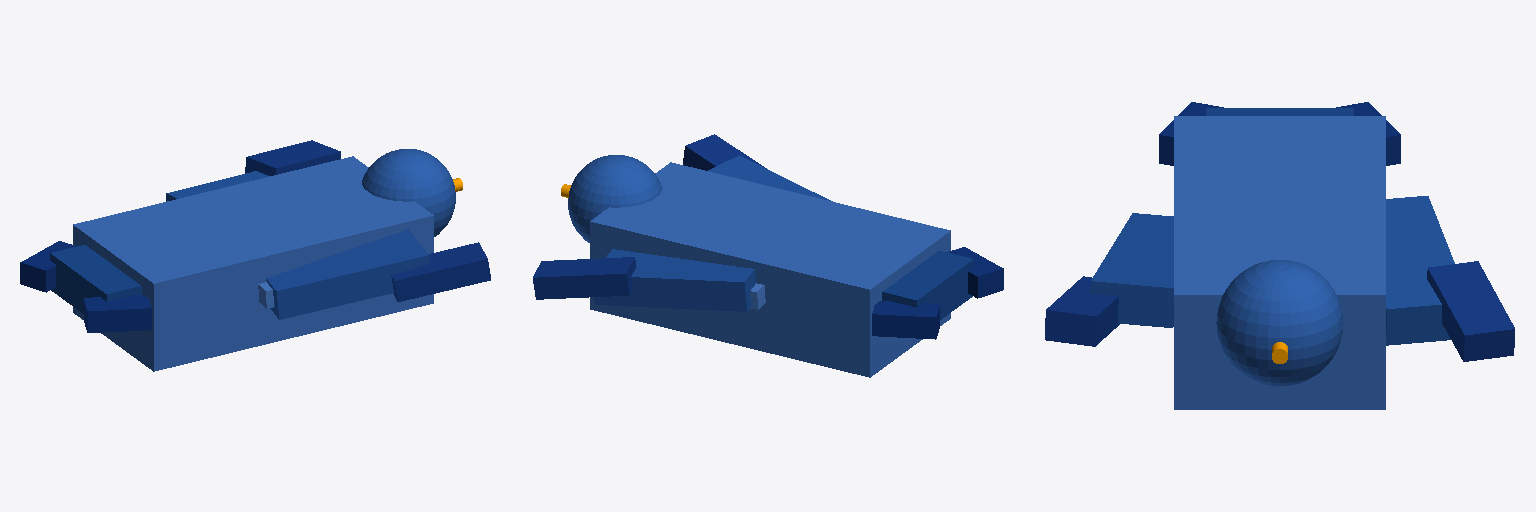
URDF robot description (realistic_bird):
<?xml version="1.0"?>
<robot name="realistic_bird">
  <!-- REALISTIC BIRD - Natural proportions and detailed features -->
  <link name="base_link">
    
    <!-- Main bird body - Realistic bird proportions -->
    <visual name="body">
      <origin xyz="0 0 0" rpy="0 0 0"/>
      <geometry>
        <box size="0.20 0.10 0.06"/>
      </geometry>
      <material name="body_color">
        <color rgba="0.25 0.45 0.75 1.0"/>
      </material>
    </visual>
    
    <!-- Bird head - Proportional to real bird -->
    <visual name="head">
      <origin xyz="0.11 0 0.02" rpy="0 0 0"/>
      <geometry>
        <sphere radius="0.03"/>
      </geometry>
      <material name="head_color">
        <color rgba="0.20 0.40 0.70 1.0"/>
      </material>
    </visual>
    
    <!-- Left wing - Realistic wing shape -->
    <visual name="left_wing">
      <origin xyz="0.03 0.06 0.01" rpy="0 0.1 0.2"/>
      <geometry>
        <box size="0.10 0.04 0.02"/>
      </geometry>
      <material name="wing_color">
        <color rgba="0.15 0.35 0.65 1.0"/>
      </material>
    </visual>
    
    <!-- Right wing - Realistic wing shape -->
    <visual name="right_wing">
      <origin xyz="0.03 -0.06 0.01" rpy="0 -0.1 -0.2"/>
      <geometry>
        <box size="0.10 0.04 0.02"/>
      </geometry>
      <material name="wing_color">
        <color rgba="0.15 0.35 0.65 1.0"/>
      </material>
    </visual>
    
    <!-- Wing tips - Primary feathers -->
    <visual name="left_wing_primary">
      <origin xyz="0.08 0.09 0.012" rpy="0 0.15 0.3"/>
      <geometry>
        <box size="0.06 0.025 0.015"/>
      </geometry>
      <material name="primary_color">
        <color rgba="0.10 0.25 0.55 1.0"/>
      </material>
    </visual>
    
    <visual name="right_wing_primary">
      <origin xyz="0.08 -0.09 0.012" rpy="0 -0.15 -0.3"/>
      <geometry>
        <box size="0.06 0.025 0.015"/>
      </geometry>
      <material name="primary_color">
        <color rgba="0.10 0.25 0.55 1.0"/>
      </material>
    </visual>
    
    <!-- Secondary wing feathers -->
    <visual name="left_secondary">
      <origin xyz="0.01 0.05 0.008" rpy="0 0.05 0.1"/>
      <geometry>
        <box size="0.07 0.03 0.012"/>
      </geometry>
      <material name="secondary_color">
        <color rgba="0.30 0.50 0.80 1.0"/>
      </material>
    </visual>
    
    <visual name="right_secondary">
      <origin xyz="0.01 -0.05 0.008" rpy="0 -0.05 -0.1"/>
      <geometry>
        <box size="0.07 0.03 0.012"/>
      </geometry>
      <material name="secondary_color">
        <color rgba="0.30 0.50 0.80 1.0"/>
      </material>
    </visual>
    
    <!-- Tail - Natural fan shape -->
    <visual name="tail_main">
      <origin xyz="-0.10 0 0.01" rpy="0 0 0"/>
      <geometry>
        <box size="0.05 0.07 0.025"/>
      </geometry>
      <material name="tail_color">
        <color rgba="0.12 0.30 0.58 1.0"/>
      </material>
    </visual>
    
    <!-- Tail outer feathers -->
    <visual name="tail_left">
      <origin xyz="-0.12 0.04 0.01" rpy="0 0 0.4"/>
      <geometry>
        <box size="0.04 0.02 0.015"/>
      </geometry>
      <material name="tail_outer_color">
        <color rgba="0.08 0.22 0.50 1.0"/>
      </material>
    </visual>
    
    <visual name="tail_right">
      <origin xyz="-0.12 -0.04 0.01" rpy="0 0 -0.4"/>
      <geometry>
        <box size="0.04 0.02 0.015"/>
      </geometry>
      <material name="tail_outer_color">
        <color rgba="0.08 0.22 0.50 1.0"/>
      </material>
    </visual>
    
    <!-- Beak - Sharp and proportional -->
    <visual name="beak">
      <origin xyz="0.14 0 0.02" rpy="0 1.57 0"/>
      <geometry>
        <cylinder radius="0.004" length="0.015"/>
      </geometry>
      <material name="beak_color">
        <color rgba="1.0 0.65 0.0 1.0"/>
      </material>
    </visual>
    
    <!-- Eyes - Natural bird eyes -->
    <visual name="left_eye">
      <origin xyz="0.12 0.015 0.032" rpy="0 0 0"/>
      <geometry>
        <sphere radius="0.008"/>
      </geometry>
      <material name="eye_color">
        <color rgba="0.05 0.05 0.05 1.0"/>
      </material>
    </visual>
    
    <visual name="right_eye">
      <origin xyz="0.12 -0.015 0.032" rpy="0 0 0"/>
      <geometry>
        <sphere radius="0.008"/>
      </geometry>
      <material name="eye_color">
        <color rgba="0.05 0.05 0.05 1.0"/>
      </material>
    </visual>
    
    <!-- Eye highlights for life -->
    <visual name="left_eye_shine">
      <origin xyz="0.123 0.013 0.036" rpy="0 0 0"/>
      <geometry>
        <sphere radius="0.003"/>
      </geometry>
      <material name="eye_shine_color">
        <color rgba="0.95 0.95 0.95 1.0"/>
      </material>
    </visual>
    
    <visual name="right_eye_shine">
      <origin xyz="0.123 -0.013 0.036" rpy="0 0 0"/>
      <geometry>
        <sphere radius="0.003"/>
      </geometry>
      <material name="eye_shine_color">
        <color rgba="0.95 0.95 0.95 1.0"/>
      </material>
    </visual>
    
    <!-- Breast - Lighter underside -->
    <visual name="breast">
      <origin xyz="0.05 0 -0.015" rpy="0 0 0"/>
      <geometry>
        <box size="0.08 0.06 0.025"/>
      </geometry>
      <material name="breast_color">
        <color rgba="0.75 0.85 0.95 1.0"/>
      </material>
    </visual>
    
    <!-- Wing shoulder markings -->
    <visual name="left_shoulder">
      <origin xyz="0.04 0.04 0.02" rpy="0 0 0"/>
      <geometry>
        <box size="0.025 0.015 0.008"/>
      </geometry>
      <material name="shoulder_color">
        <color rgba="0.90 0.90 0.90 1.0"/>
      </material>
    </visual>
    
    <visual name="right_shoulder">
      <origin xyz="0.04 -0.04 0.02" rpy="0 0 0"/>
      <geometry>
        <box size="0.025 0.015 0.008"/>
      </geometry>
      <material name="shoulder_color">
        <color rgba="0.90 0.90 0.90 1.0"/>
      </material>
    </visual>
    
    <!-- Small feet -->
    <visual name="left_foot">
      <origin xyz="0.02 0.012 -0.04" rpy="0 0 0"/>
      <geometry>
        <cylinder radius="0.002" length="0.012"/>
      </geometry>
      <material name="foot_color">
        <color rgba="1.0 0.4 0.0 1.0"/>
      </material>
    </visual>
    
    <visual name="right_foot">
      <origin xyz="0.02 -0.012 -0.04" rpy="0 0 0"/>
      <geometry>
        <cylinder radius="0.002" length="0.012"/>
      </geometry>
      <material name="foot_color">
        <color rgba="1.0 0.4 0.0 1.0"/>
      </material>
    </visual>
    
    <!-- Smaller collision sphere -->
    <collision>
      <origin xyz="0 0 0" rpy="0 0 0"/>
      <geometry>
        <sphere radius="0.05"/>
      </geometry>
    </collision>
    
    <!-- Zero mass for kinematic movement control -->
    <inertial>
      <origin xyz="0 0 0" rpy="0 0 0"/>
      <mass value="0.0"/>
      <inertia ixx="0.0" ixy="0" ixz="0" iyy="0.0" iyz="0" izz="0.0"/>
    </inertial>
  </link>
</robot> 

--- Render facts (derived) ---
Views: 3 orthographic renders of the robot side by side, from view 1: azimuth 30°, elevation 25°; view 2: azimuth 150°, elevation 25°; view 3: azimuth 270°, elevation 25°.
Robot: realistic_bird — 1 links, 0 joints (none); root link base_link; default pose: every joint at zero.
Links seen in each view (by area): view 1: base_link; view 2: base_link; view 3: base_link.
Boxes of the visible links, x1,y1,x2,y2 form: base_link: [20, 140, 490, 371]; base_link: [533, 134, 1003, 377]; base_link: [1045, 102, 1514, 409].
Size in the robot's own frame: 0.2898 by 0.2221 by 0.096 metres.
Geometry: primitives only (box / cylinder / sphere), no mesh files.